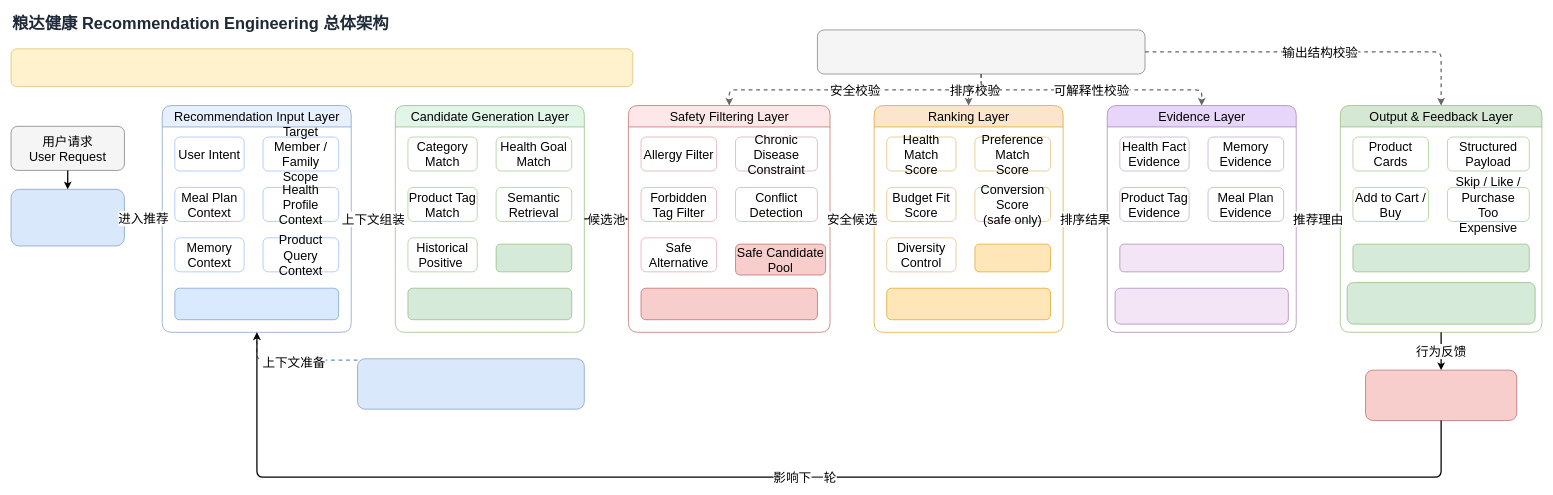
This 1553x495 diagram has some shape labels left out. Each missing label, with the centre of its shape:
"Agent 入口" belongs at (67,217).
"Candidate Pool" belongs at (533,257).
"Context Engineering 组织成员、画像、记忆、商品、安全上下文" belongs at (470,383).
"Final Ranking" belongs at (1012,257).
"Harness Engineering 验证推荐是否安全、准确、可解释、结构正确" belongs at (981,51).
"Loop Engineering 接收行为反馈并影响下一轮排序" belongs at (1441,395).
"Loop Write-back" belongs at (1440,257).
"Recommendation Reason" belongs at (1201,257).
"写回：price_sensitive / category_negative / preference / purchase_intent" belongs at (1440,303).
"权重/大模型 Rerank" belongs at (968,304).
"核心原则：安全禁忌 > 健康事实 > 健康目标 > 餐单场景 > 商品标签匹配 > 用户偏好 > 预算反馈 > 营销转化" belongs at (321,67).
"规则：语义召回和转化信号都不能绕过安全过滤" belongs at (728,304).
"输出：待过滤候选池" belongs at (489,304).
"输出：推荐上下文" belongs at (256,304).
"输出：推荐给谁 / 为什么适合 / 证据来源 / 安全替代说明" belongs at (1201,306).
